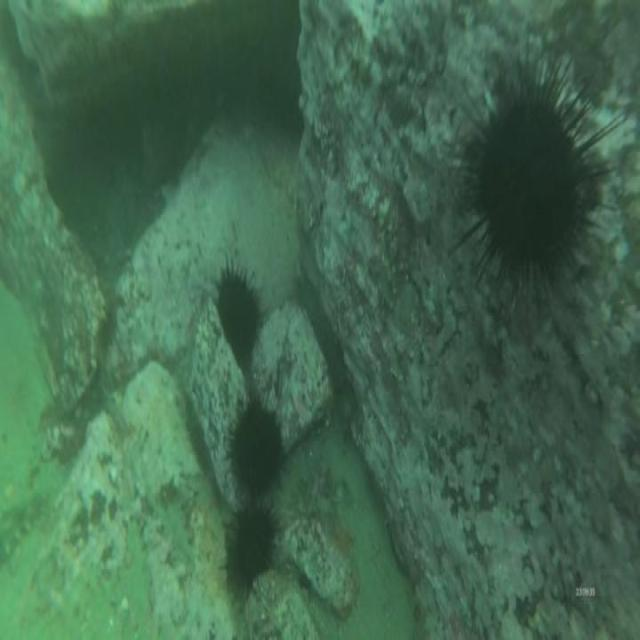echinus: (468, 84, 598, 296), (220, 495, 284, 599), (231, 390, 285, 500), (212, 264, 264, 365)
